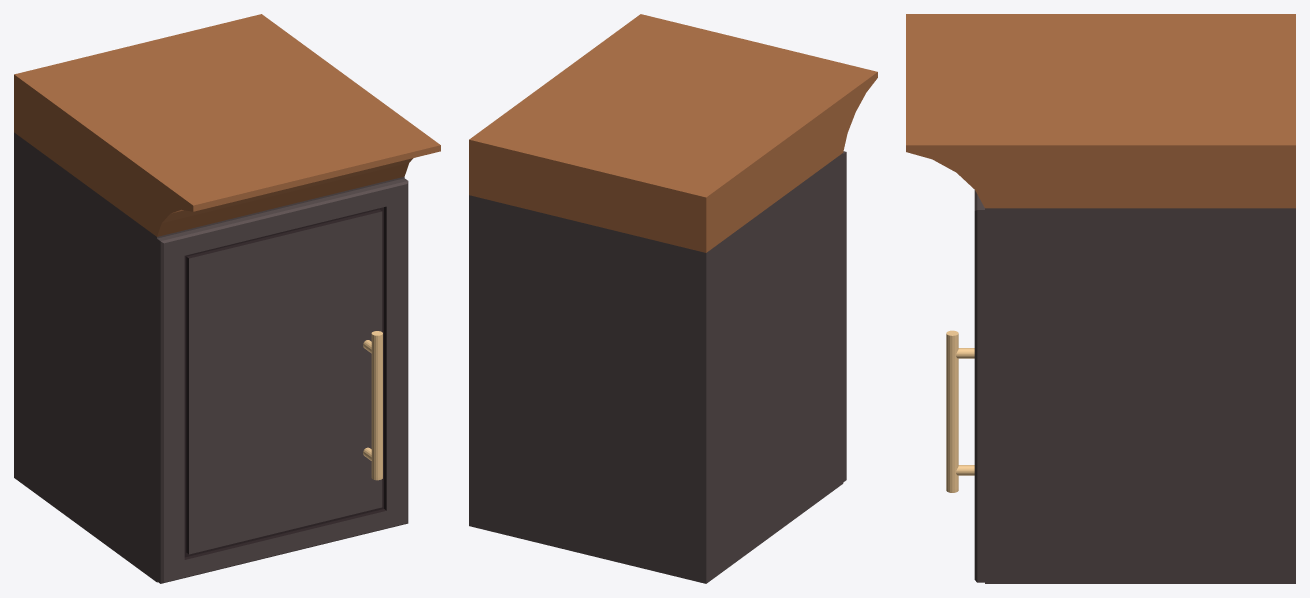
Rendered from Prop_KitchenCabinet_02_D.fbx.
3 views of the same model, side by side, from view 1: azimuth 30°, elevation 25°; view 2: azimuth 150°, elevation 25°; view 3: azimuth 270°, elevation 25° (orthographic). The views are drawn at different scales.
Parts seen in each view (by area): view 1: Prop_KitchenCabinet_02_D; view 2: Prop_KitchenCabinet_02_D; view 3: Prop_KitchenCabinet_02_D.
Boxes of the visible parts, x1=… form: Prop_KitchenCabinet_02_D: x1=14, y1=14, x2=440, y2=583; Prop_KitchenCabinet_02_D: x1=469, y1=14, x2=877, y2=583; Prop_KitchenCabinet_02_D: x1=906, y1=14, x2=1295, y2=583.
Size of the model in its own units: 60 by 93.41 by 75.21.
